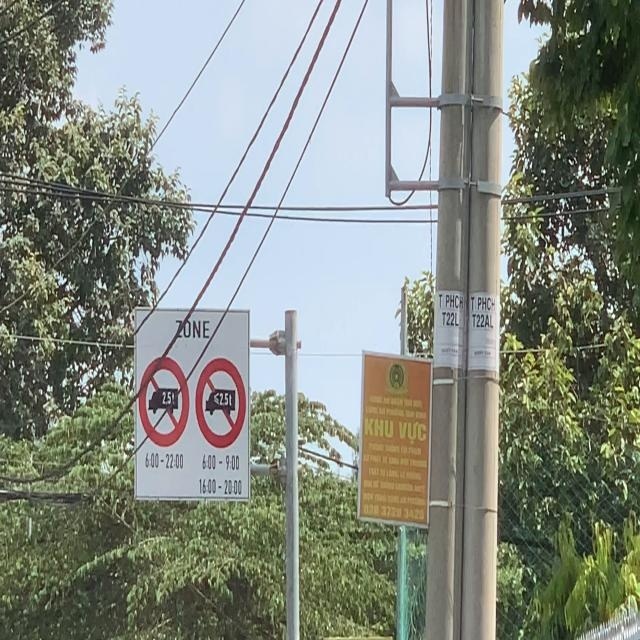bien_cam: (195, 352, 246, 449), (138, 356, 190, 448)
